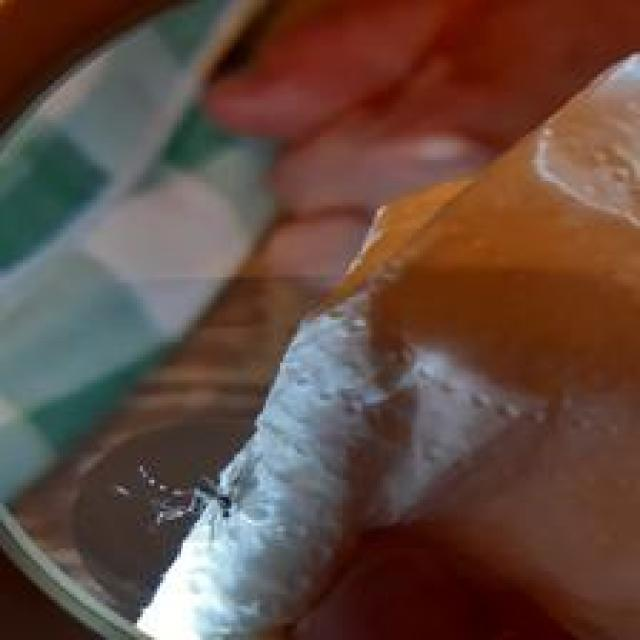Aedes albopictus: (125, 43, 640, 640)
